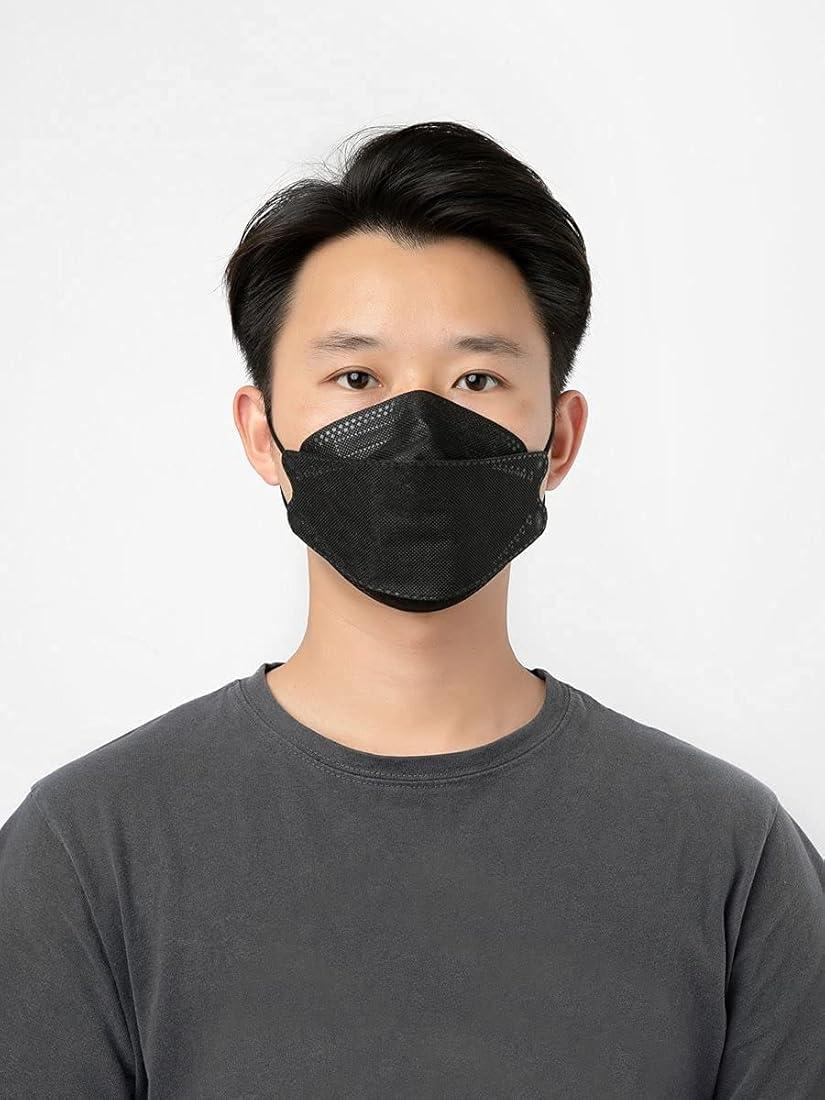mask: (270, 370, 580, 637)
